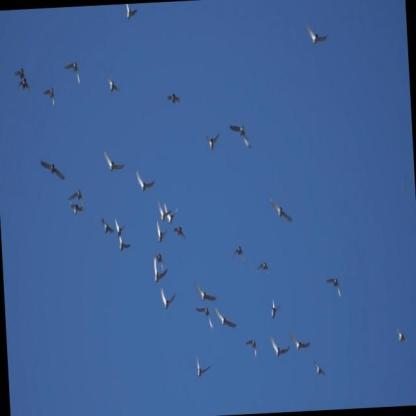bird: (303, 19, 331, 47), (38, 158, 66, 185), (228, 121, 252, 151), (269, 196, 294, 224), (215, 305, 238, 331), (194, 280, 218, 304), (103, 148, 125, 174), (195, 304, 215, 332), (135, 169, 156, 195), (289, 328, 310, 354), (270, 334, 291, 360), (63, 59, 82, 87), (324, 272, 343, 300), (152, 256, 169, 284), (67, 187, 85, 213), (195, 354, 212, 378), (164, 201, 180, 225), (161, 287, 177, 311), (157, 199, 172, 223), (112, 216, 128, 238), (314, 360, 329, 382), (156, 220, 170, 243), (269, 299, 282, 323), (151, 252, 165, 274), (105, 74, 120, 94), (255, 259, 270, 279), (67, 200, 84, 217), (119, 236, 133, 256), (246, 336, 258, 359), (43, 85, 56, 105), (16, 79, 31, 96), (126, 3, 139, 22), (12, 67, 27, 83), (206, 134, 220, 151), (232, 245, 244, 264), (102, 219, 115, 236), (173, 226, 186, 243), (395, 329, 407, 344), (167, 92, 180, 105)
